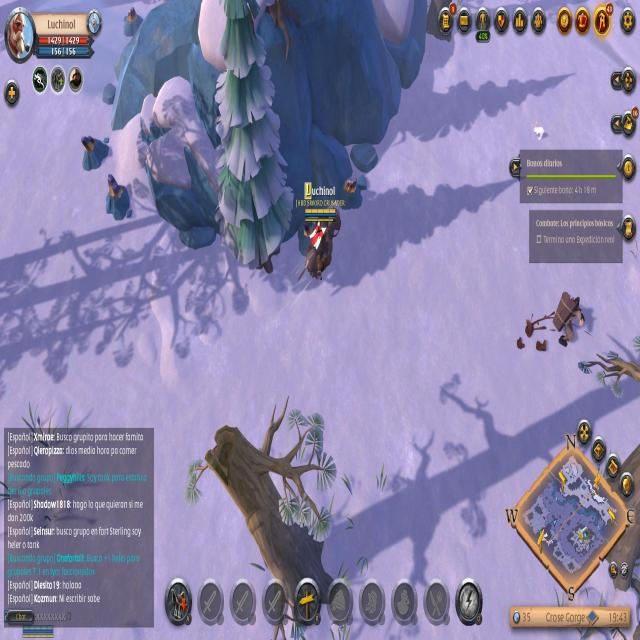piedra_cobre: (332, 168, 371, 222), (104, 175, 137, 225), (80, 126, 113, 173)
